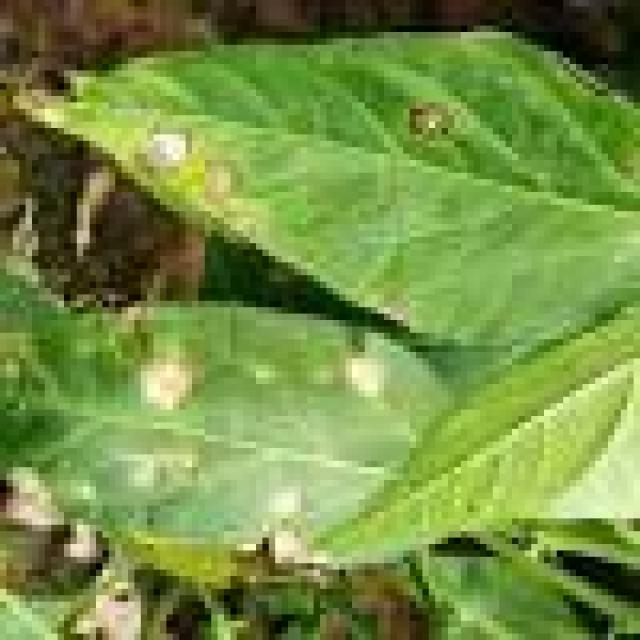bercak_daun: (13, 32, 640, 315)
